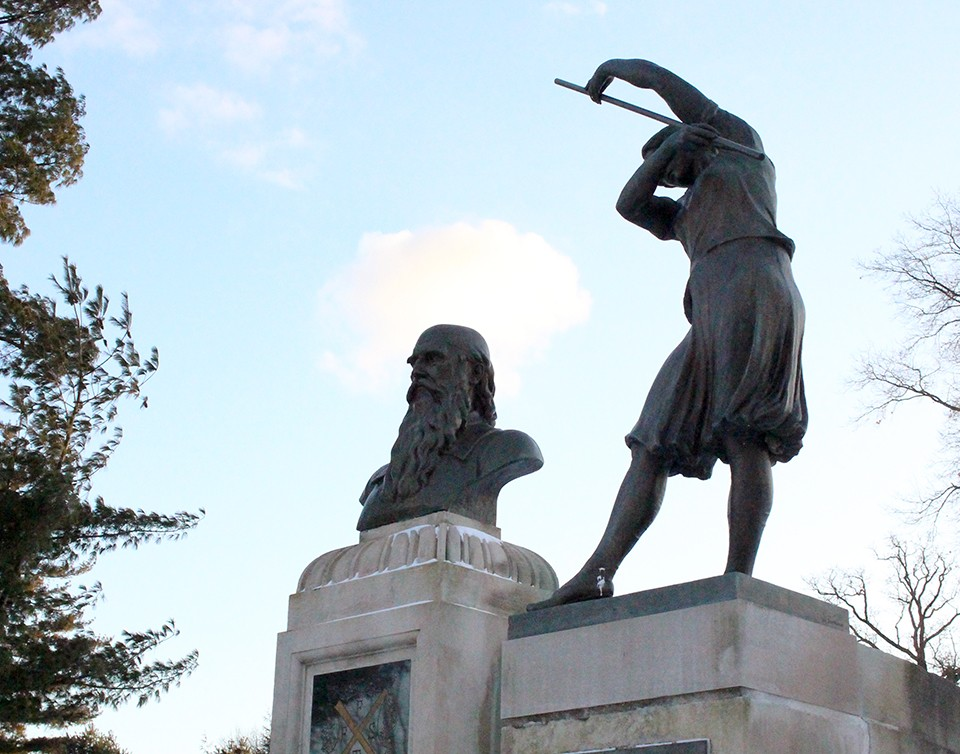person-like: (523, 42, 815, 623), (351, 324, 547, 527)
